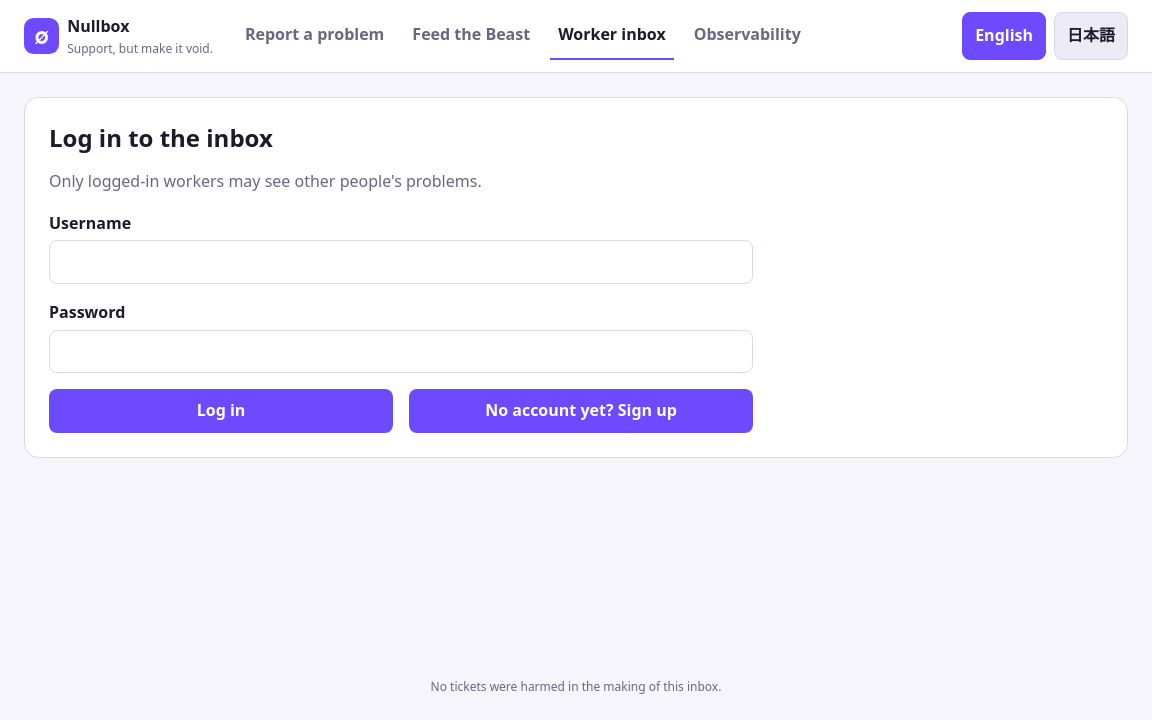
RequireWorker › logs in, keeps the token in sessionStorage only, and sends Bearer afterwards
This screenshot has width=1152, height=720.
Type "alice" into the field labelled "Username" at coordinates (401, 262), box [49,240,753,284]
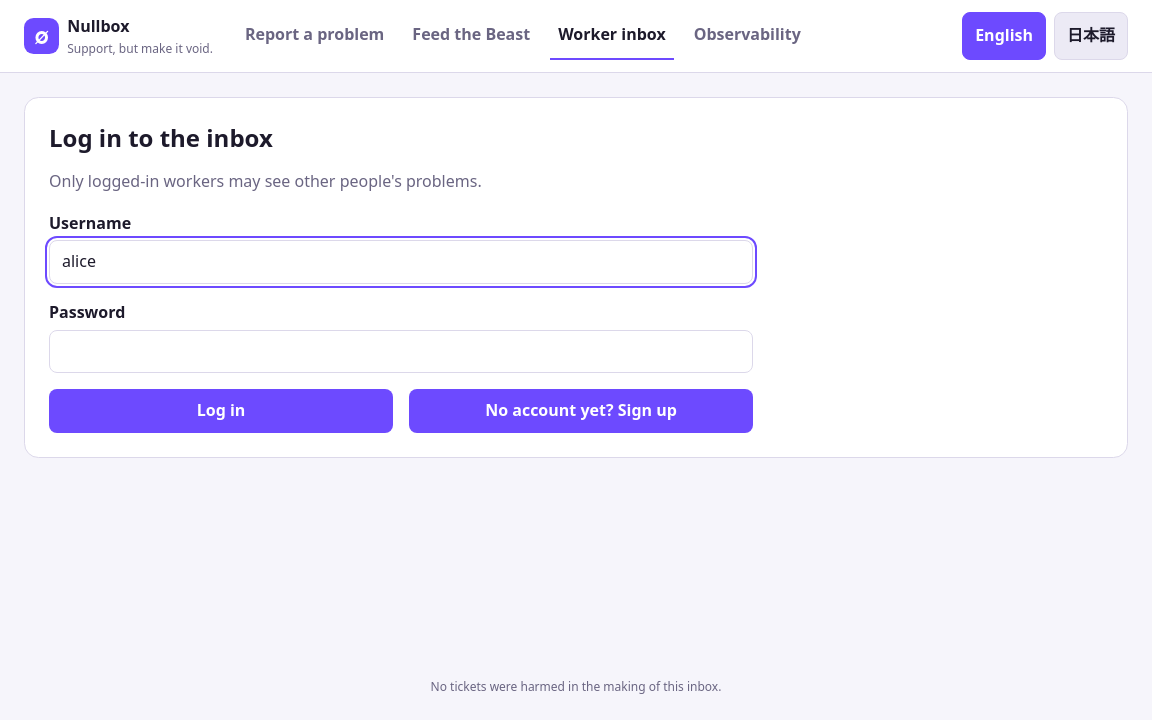
Type "correct horse battery" into the password field labelled "Password" at coordinates (401, 351), box [49,330,753,373]
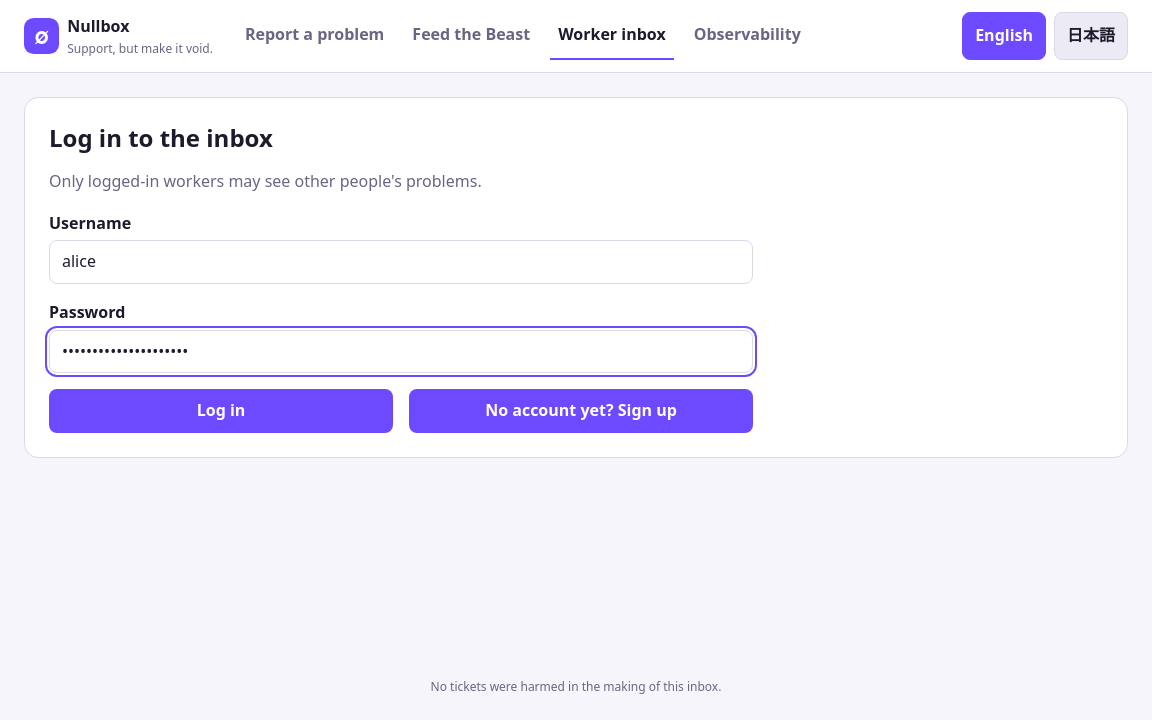
Click the button "Log in" at coordinates (221, 411), box [49,389,393,433]
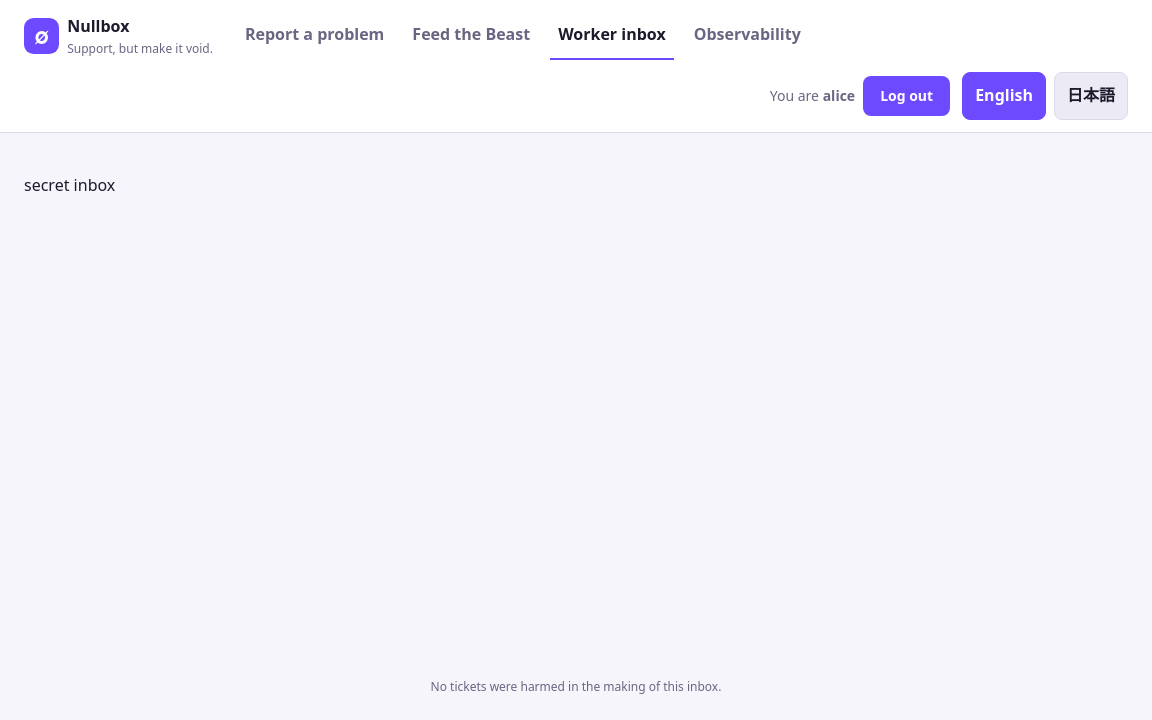
Result: the text "secret inbox" is shown at [24,174,115,196]
